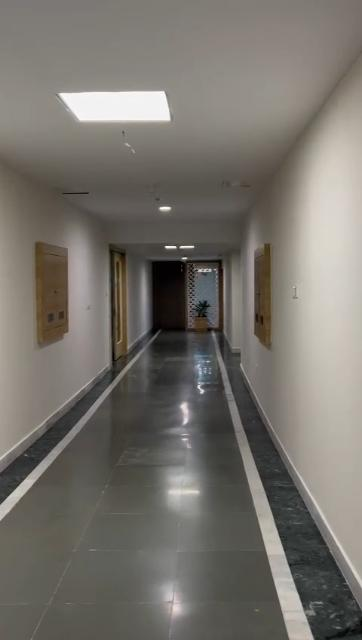door: (110, 243, 128, 355)
floor: (2, 326, 362, 640)
object: (194, 300, 212, 332)
wall: (239, 48, 362, 585), (0, 168, 111, 455), (31, 239, 75, 379), (230, 255, 249, 343), (130, 260, 152, 332)
